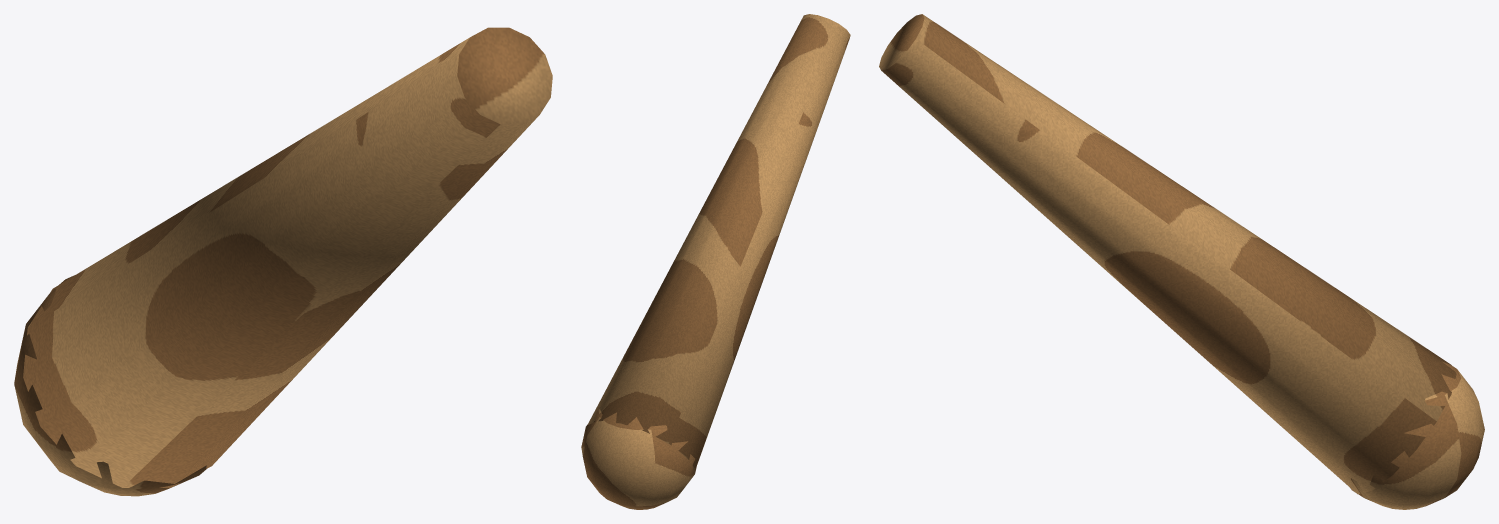
The model's file is cola.obj.
The picture shows the model from 3 angles, left to right: view 1: azimuth 30°, elevation 25°; view 2: azimuth 150°, elevation 25°; view 3: azimuth 270°, elevation 25°; orthographic projection. The views are drawn at different scales.
Parts seen in each view (by area): view 1: cola; view 2: cola; view 3: cola.
Part boxes in pixels (box(x1,y1,x2,y2)): cola: box(14, 27, 552, 496); cola: box(581, 14, 850, 509); cola: box(879, 14, 1484, 509).
Size of the model in its own units: 0.064 by 0.2127 by 0.2411.
1 material, 1 textured.
